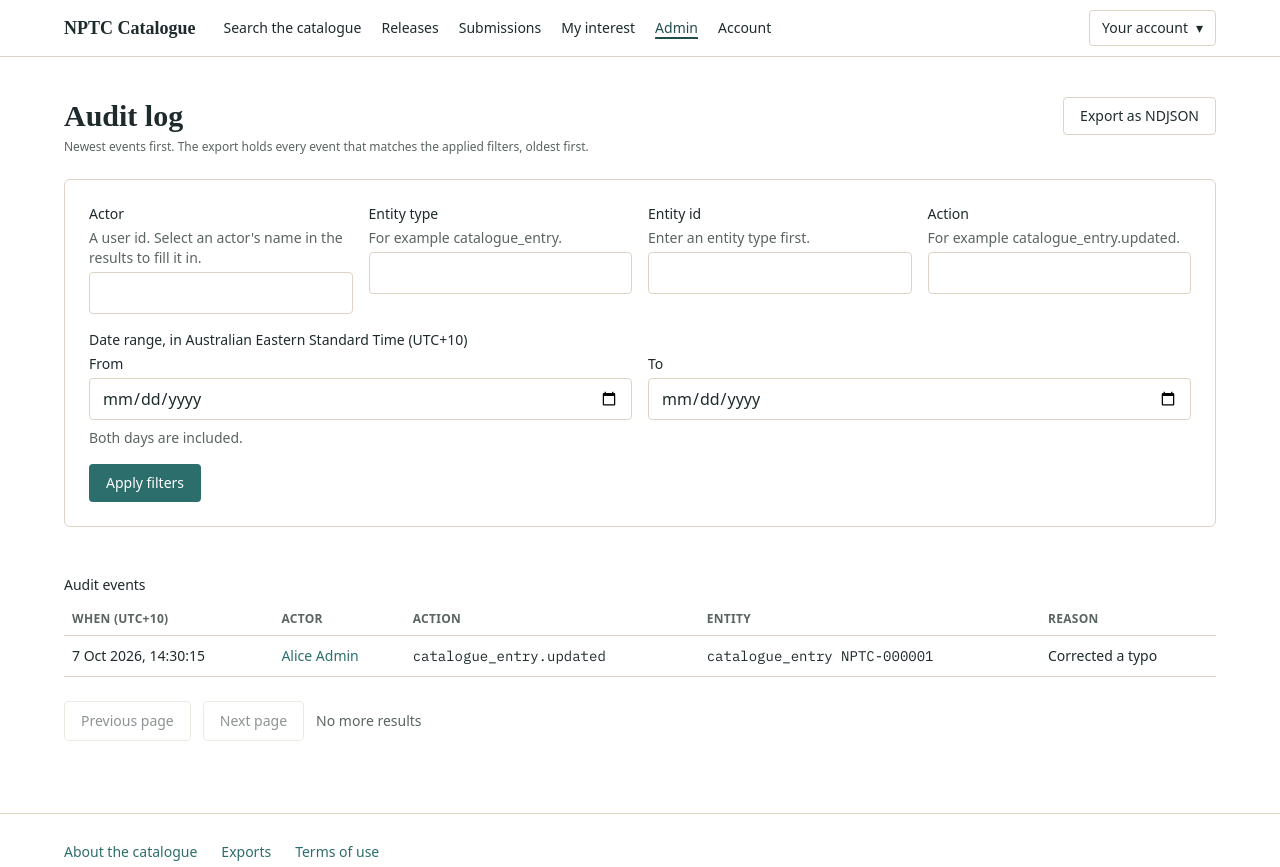
Test: AdminAuditPage › filters › refuses an actor that is not a user id, names it in a summary and sends nothing
This screenshot has width=1280, height=867.
Expected: the table "Audit events" is shown, [64, 574, 1216, 676]
Type "alice" into the field labelled "Actor" at (221, 292), box [89, 272, 352, 314]
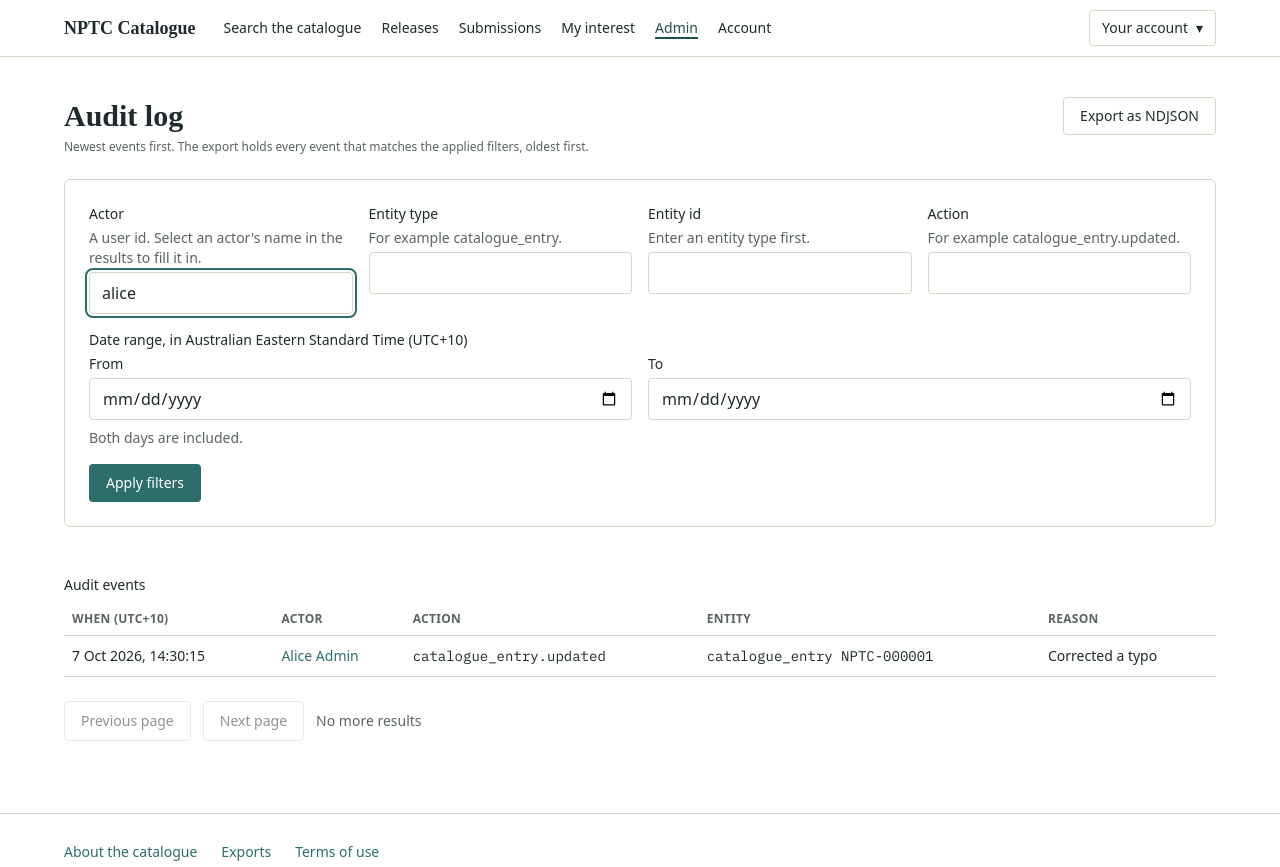
Click the button "Apply filters" at (145, 482), box [89, 464, 201, 502]
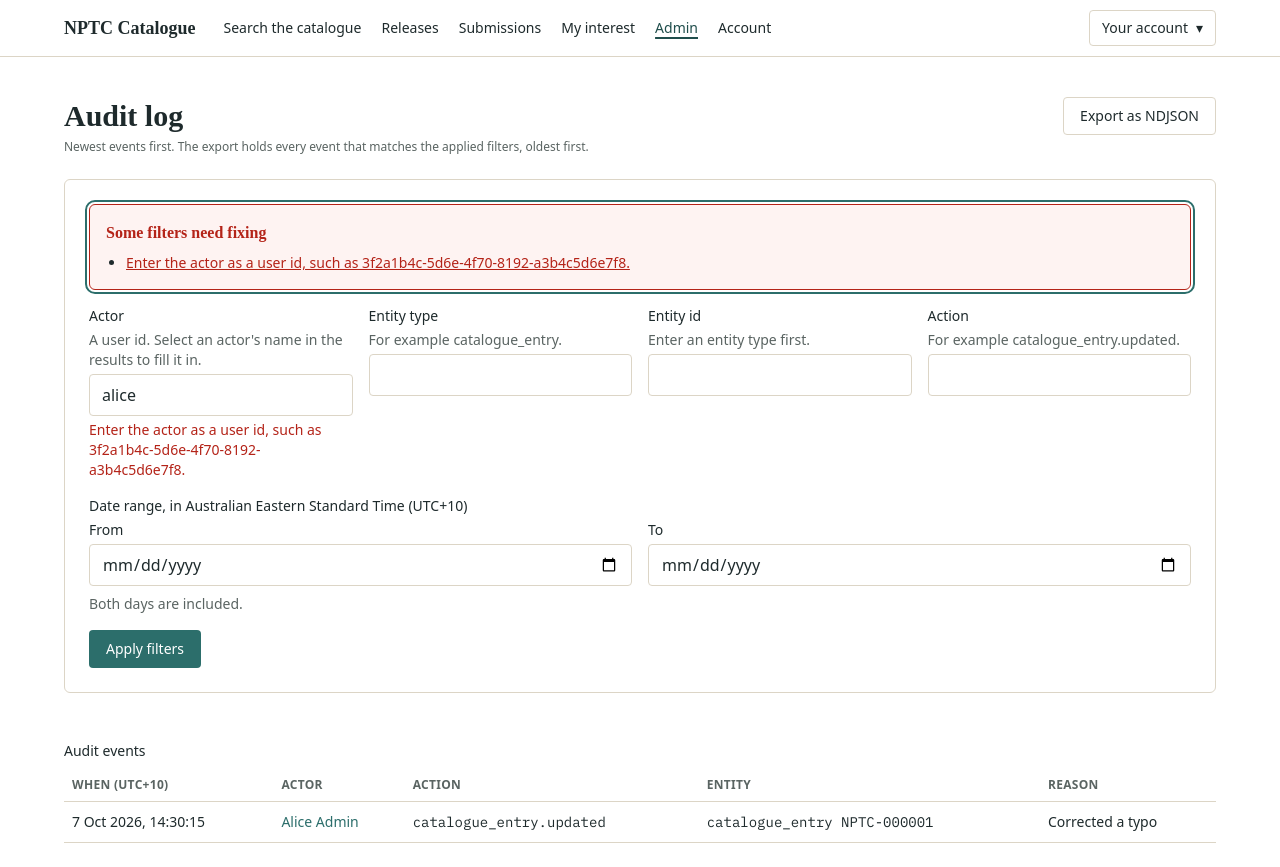
Expected: the link "Enter the actor as a user id" is shown, [126, 252, 630, 272]
